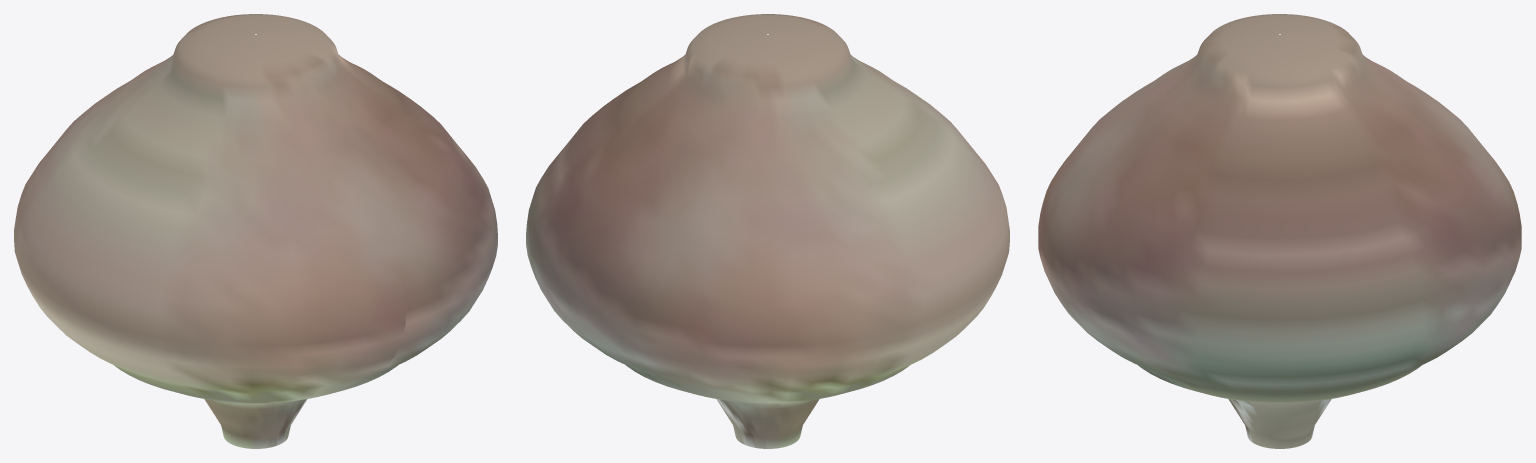
The model's file is mushroom-4.glb.
3 renders of one model, left to right at view 1: azimuth 30°, elevation 25°; view 2: azimuth 150°, elevation 25°; view 3: azimuth 270°, elevation 25°, orthographic.
Parts seen in each view (by area): view 1: mushroom-4; view 2: mushroom-4; view 3: mushroom-4.
Boxes of the visible parts, x1=… form: mushroom-4: x1=14, y1=14, x2=497, y2=448; mushroom-4: x1=526, y1=14, x2=1009, y2=448; mushroom-4: x1=1038, y1=14, x2=1521, y2=448.
Size of the model in its own units: 0.4537 by 0.4153 by 0.4537.
